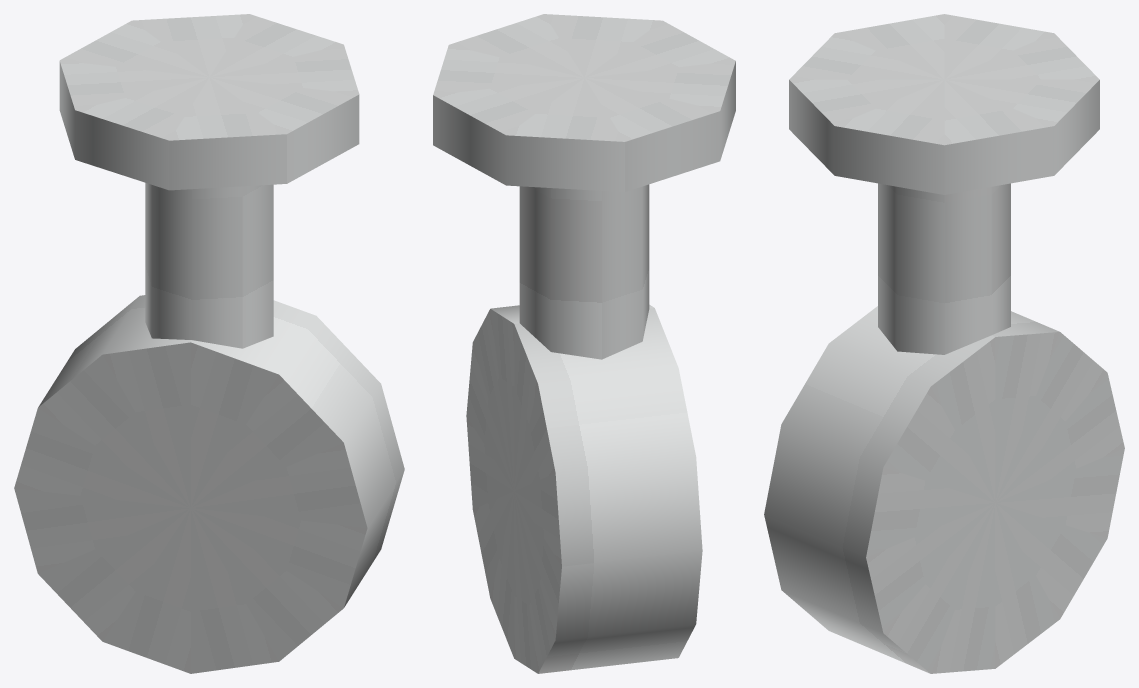
The model's file is trusssignalarm_stub_125.obj.
3 renders of one model, left to right at view 1: azimuth 30°, elevation 25°; view 2: azimuth 150°, elevation 25°; view 3: azimuth 270°, elevation 25°, orthographic.
Visible parts, largest first — view 1: trusssignalarm_stub_125; view 2: trusssignalarm_stub_125; view 3: trusssignalarm_stub_125.
Boxes of the visible parts, bbox=[...] form: trusssignalarm_stub_125: bbox=[14, 14, 404, 673]; trusssignalarm_stub_125: bbox=[433, 14, 735, 673]; trusssignalarm_stub_125: bbox=[764, 14, 1124, 673].
Bounding box in the file's own units: 0.4066 × 0.7056 × 0.4066.
